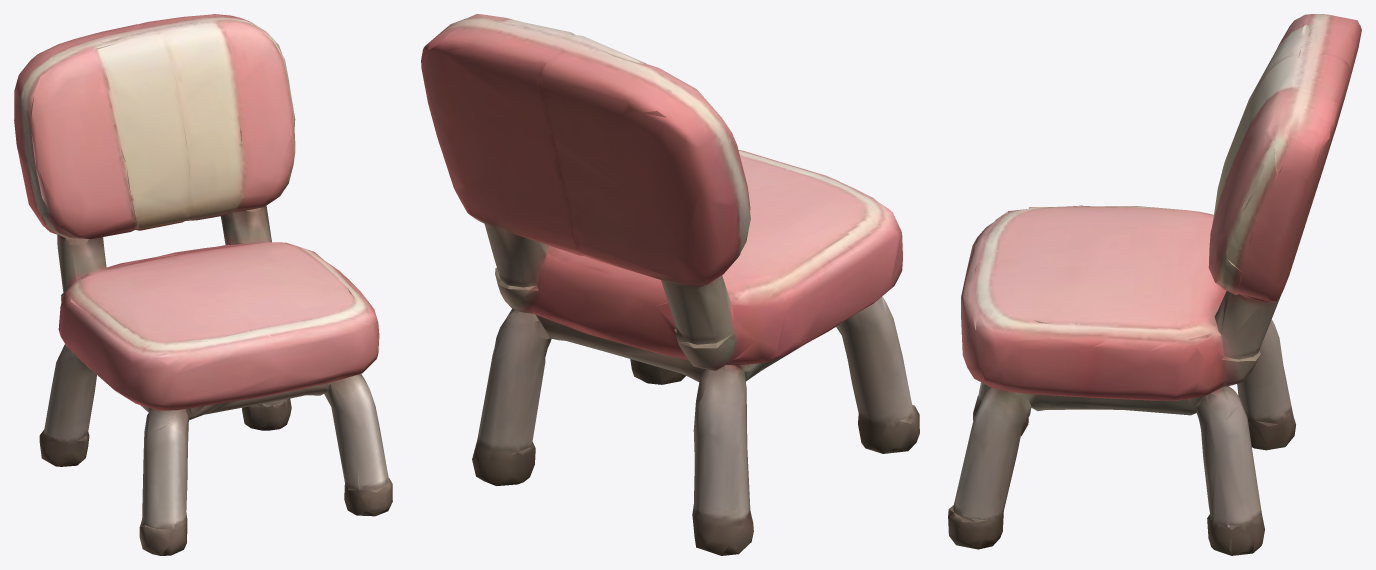
The model's file is chair14.glb.
3 renders of one model, left to right at view 1: azimuth 30°, elevation 25°; view 2: azimuth 150°, elevation 25°; view 3: azimuth 270°, elevation 25°, orthographic. The views are drawn at different scales.
Size of the model in its own units: 0.1527 by 0.216 by 0.1812.
1 material, 1 textured.
